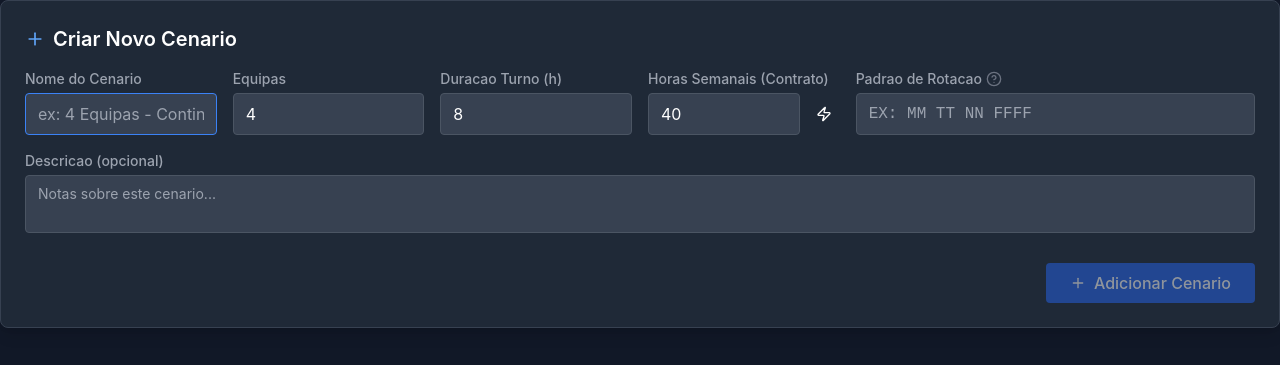
Test: ScenarioForm › shows pattern error for too short pattern
The image size is (1280, 365).
Type "MT" into the field with placeholder "ex: MM TT NN FFFF" at (1055, 114), box x1=856 y1=93 x2=1255 y2=135
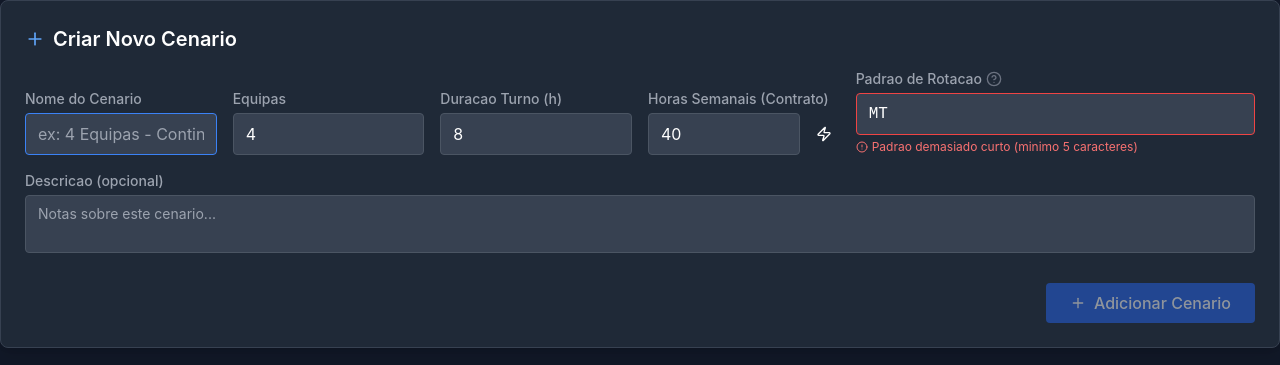
Expected: the text "Padrao demasiado curto (minimo 5 caracteres)" is shown, x1=856 y1=139 x2=1138 y2=154
